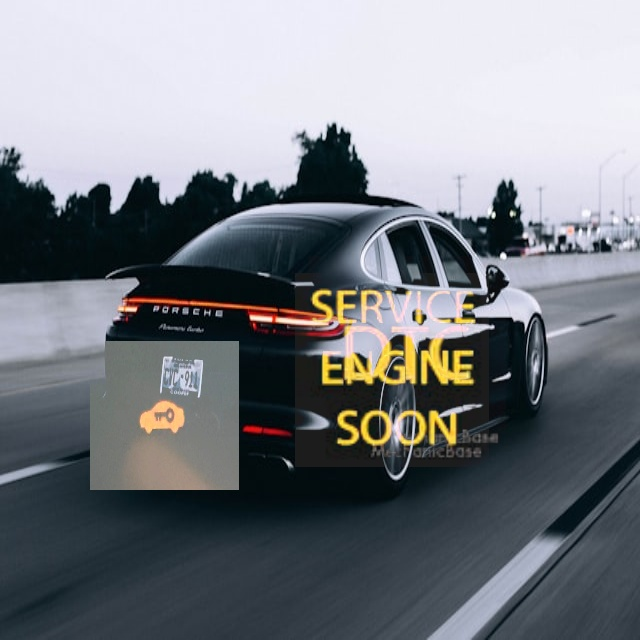symbol: (309, 256, 506, 453), (295, 273, 489, 467), (90, 341, 239, 490)
